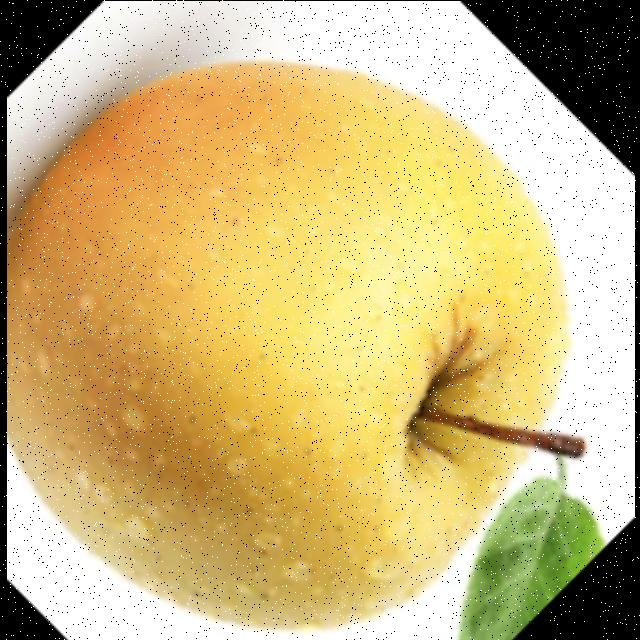Apel Segar: (5, 56, 575, 627)
